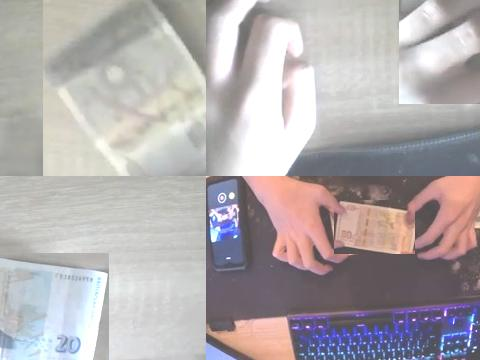10leva: (43, 0, 206, 176)
20leva: (0, 255, 109, 360)
50leva: (334, 200, 415, 254)
